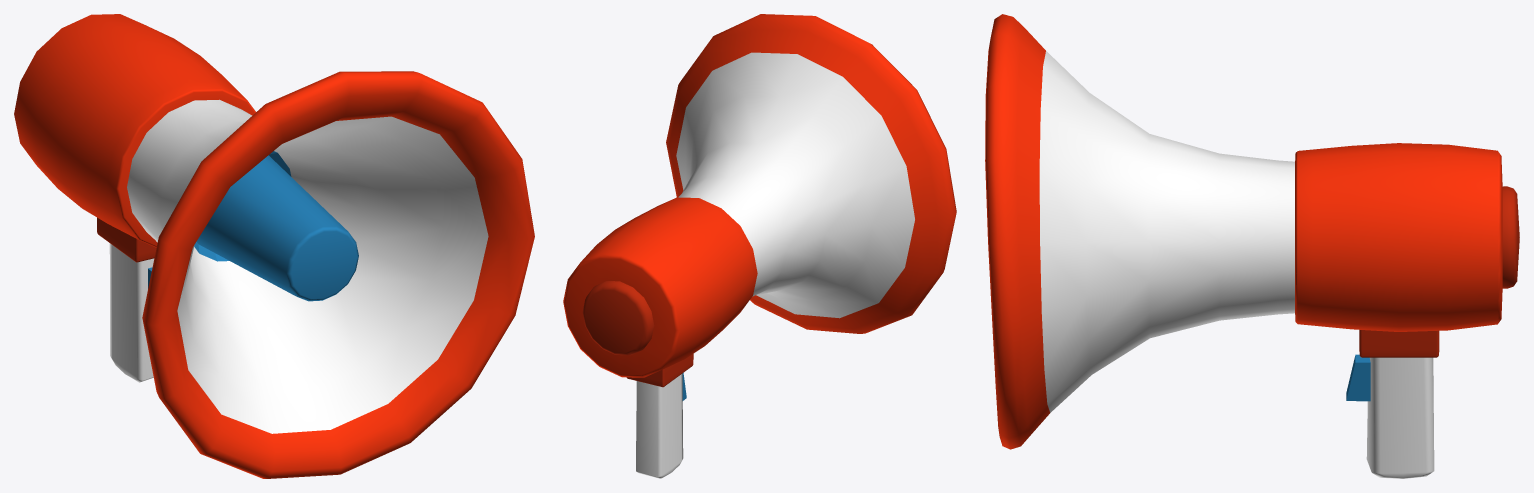
File: Megaphone.fbx
3 renders of one model, left to right at view 1: azimuth 30°, elevation 25°; view 2: azimuth 150°, elevation 25°; view 3: azimuth 270°, elevation 25°, orthographic. The views are drawn at different scales.
Parts seen in each view (by area): view 1: Megaphone; view 2: Megaphone; view 3: Megaphone.
Part boxes in pixels (<box>): Megaphone: <box>14,14,534,478</box>; Megaphone: <box>563,14,956,478</box>; Megaphone: <box>985,14,1519,478</box>.
Bounding box in the file's own units: 2.87 × 3.21 × 3.53.
